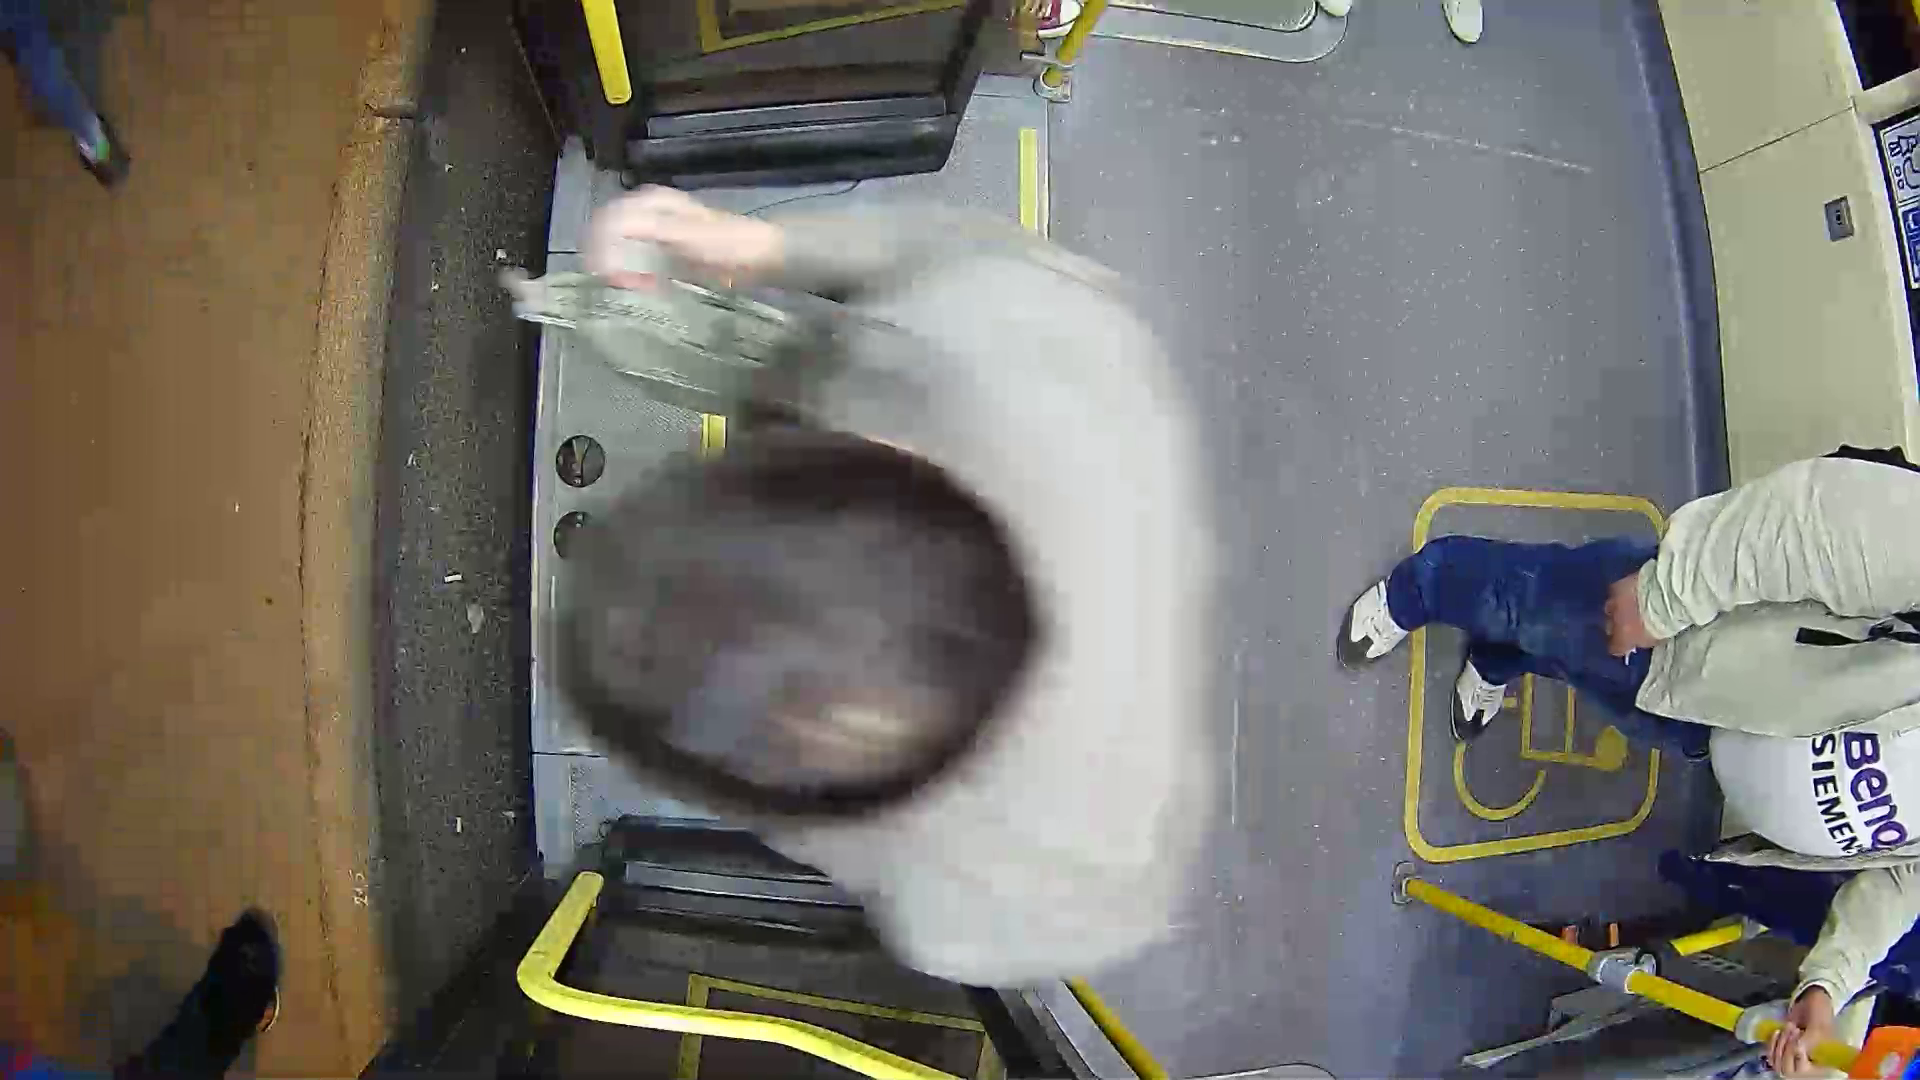person: (459, 186, 1370, 996)
